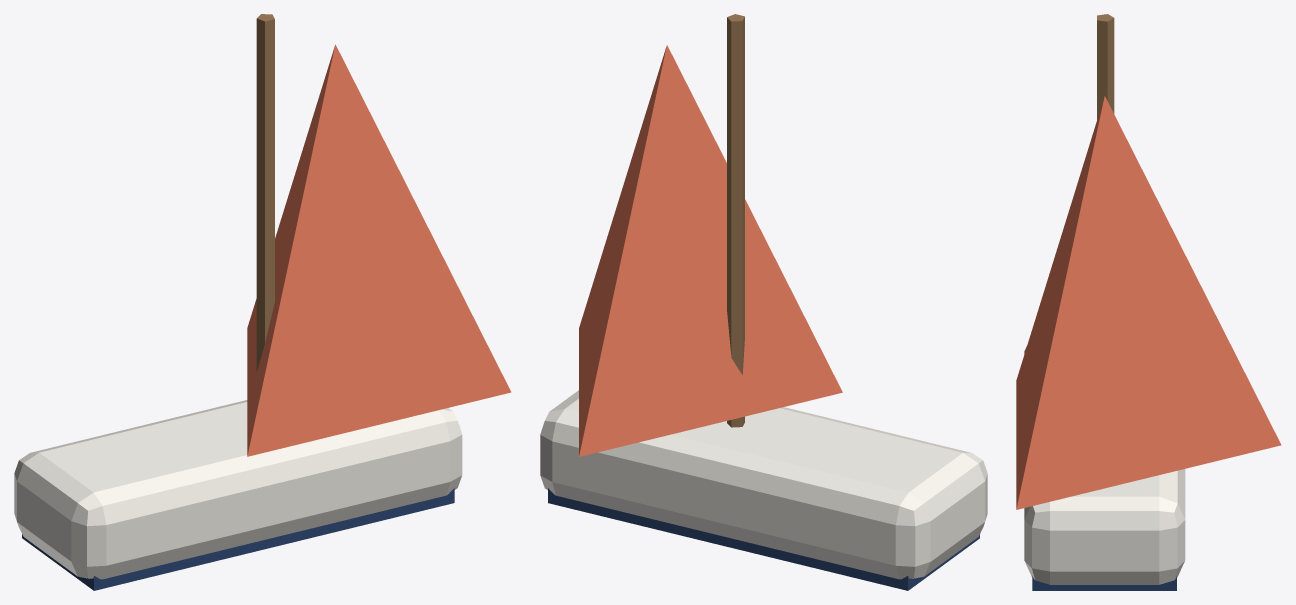
File: m_boat.gltf
3 renders of one model, left to right at view 1: azimuth 30°, elevation 25°; view 2: azimuth 150°, elevation 25°; view 3: azimuth 270°, elevation 25°, orthographic.
Visible parts, largest first — view 1: m_boat; view 2: m_boat; view 3: m_boat.
Boxes of the visible parts, x1,y1,x2,y2 form: m_boat: (14,14,511,590); m_boat: (540,14,987,590); m_boat: (1016,14,1281,590).
Size of the model in its own units: 1.53 by 1.71 by 0.825.
Materials: 1 (1 with a texture image).
